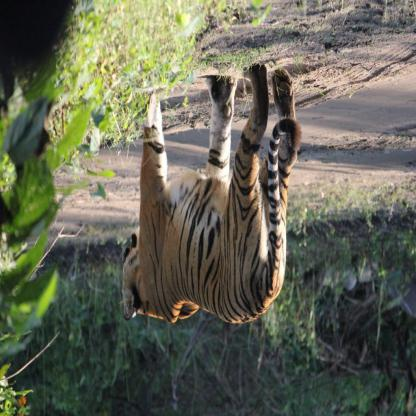tiger: (107, 229, 148, 318)
